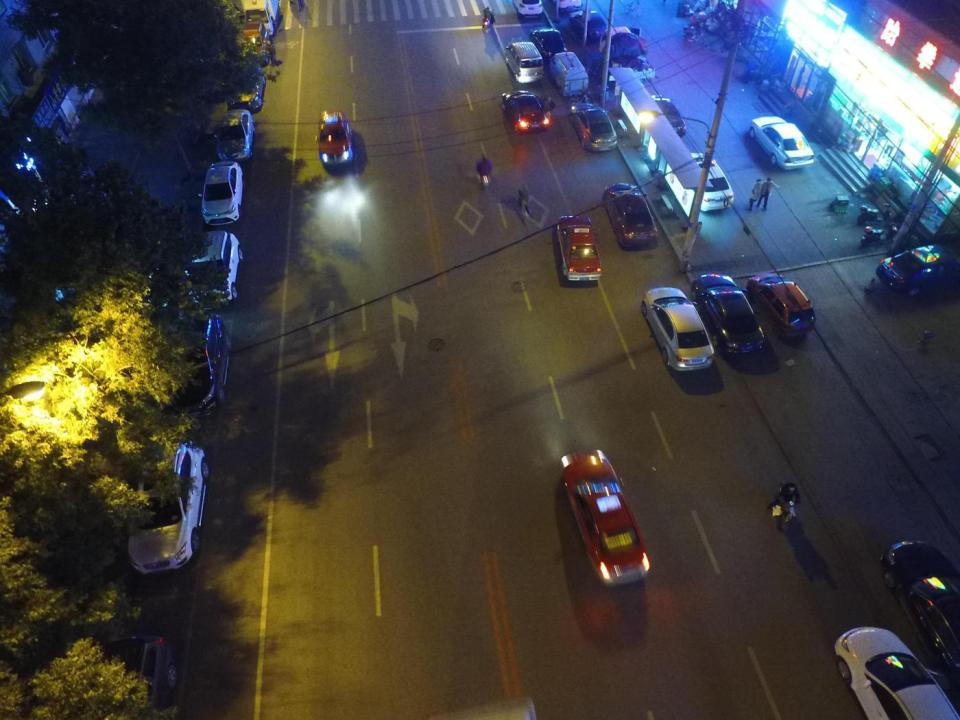car: (557, 450, 652, 586), (879, 538, 959, 685), (836, 626, 960, 720), (124, 436, 207, 572), (90, 638, 178, 717), (166, 316, 230, 420), (637, 288, 715, 372), (688, 274, 766, 355), (48, 235, 112, 318), (745, 269, 817, 339), (185, 229, 243, 308), (673, 151, 735, 210), (604, 182, 658, 249), (748, 116, 815, 168), (559, 214, 604, 282), (202, 163, 244, 227), (312, 109, 355, 171), (569, 100, 617, 154), (640, 92, 687, 144), (501, 90, 550, 134), (232, 24, 275, 70), (218, 109, 254, 163), (228, 62, 265, 114), (530, 28, 566, 60), (570, 11, 607, 42), (514, 0, 544, 19), (552, 0, 584, 12)
truck: (597, 26, 653, 82), (241, 1, 281, 35)
van: (549, 51, 589, 97), (504, 40, 544, 82)
